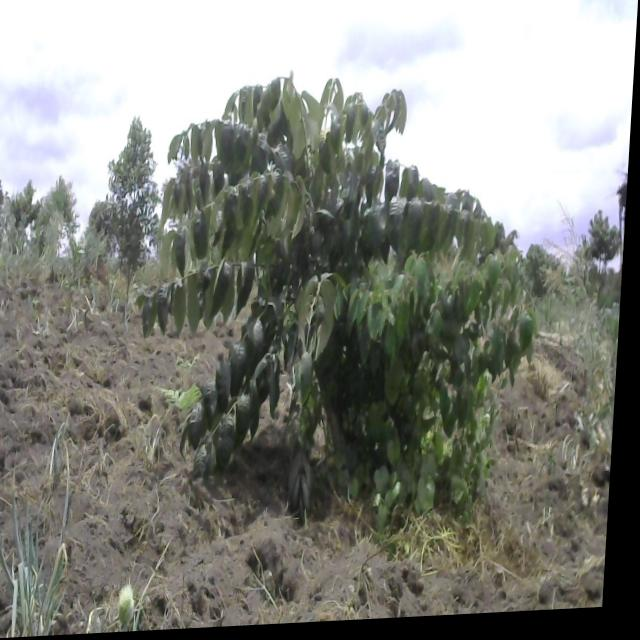Polyscias fulva: (155, 28, 577, 557)
other: (100, 112, 164, 314)
